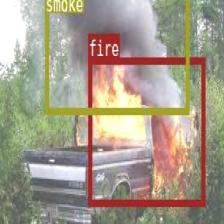fire: (88, 57, 204, 204)
smoke: (44, 0, 188, 113)
